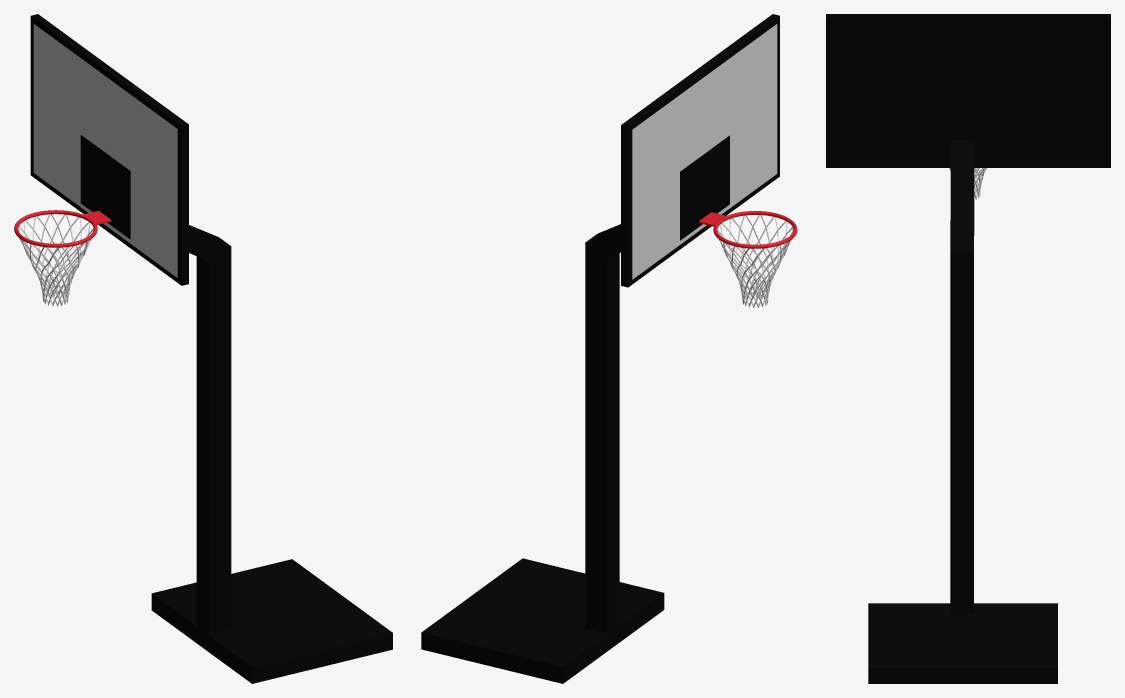
Rendered from Basketballkorb1.fbx.
The picture shows the model from 3 angles, left to right: view 1: azimuth 30°, elevation 25°; view 2: azimuth 150°, elevation 25°; view 3: azimuth 270°, elevation 25°; orthographic projection. The views are drawn at different scales.
Parts seen in each view (by area): view 1: Halterung, Backboard, Netz, Backboard.002, Backboard.001, Ring; view 2: Halterung, Backboard, Netz, Backboard.002, Ring, Backboard.001; view 3: Backboard, Halterung.
Boxes of the visible parts, x1,y1,x2,y2 form: Halterung: (151, 225, 392, 683); Backboard: (30, 14, 188, 285); Netz: (18, 214, 93, 306); Backboard.002: (84, 143, 126, 230); Backboard.001: (80, 135, 130, 238); Ring: (14, 210, 111, 247); Halterung: (421, 224, 664, 683); Backboard: (621, 14, 779, 287); Netz: (717, 215, 793, 308); Backboard.002: (684, 144, 726, 231); Ring: (698, 211, 797, 248); Backboard.001: (680, 136, 729, 240); Backboard: (826, 14, 1110, 167); Halterung: (868, 140, 1057, 683).
Size of the model in its own units: 221 by 392 by 180.
